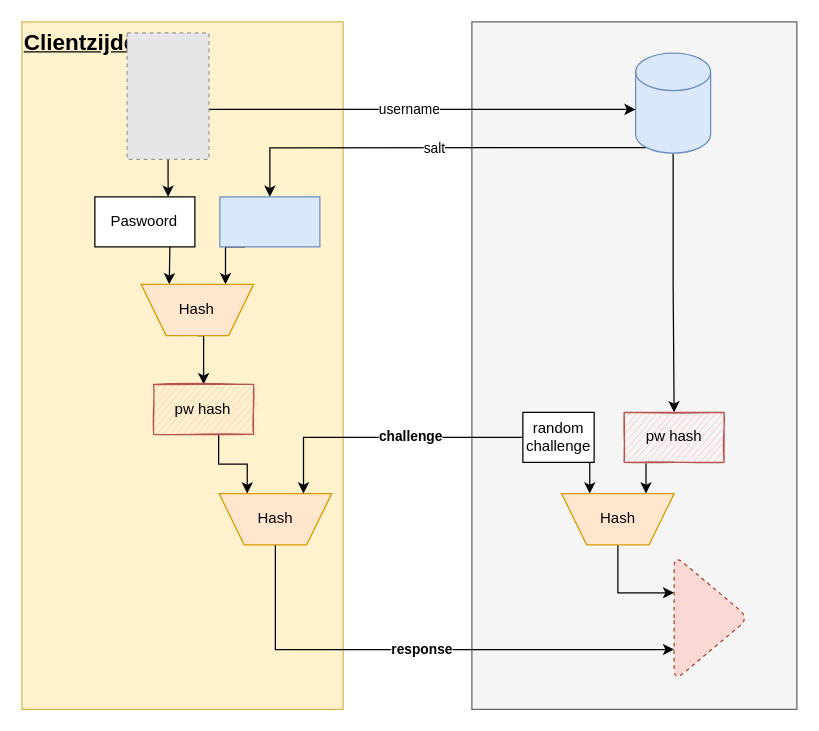
Image size: 819x731. Some labels were removed from this diagram. Grey dashed boxes stand in for pictures. Here are the shapes that lost their labels. From the top down, the box of each, then its label:
(634, 52, 711, 153): password db
(219, 196, 320, 247): Random salt
(471, 21, 797, 709): Serverzijde
(673, 554, 749, 681): Gelijk?
